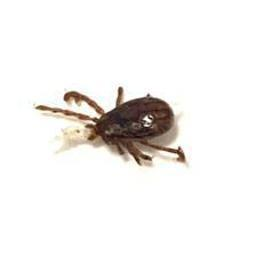Rhipicephalus sanguineus: (34, 86, 186, 166)
